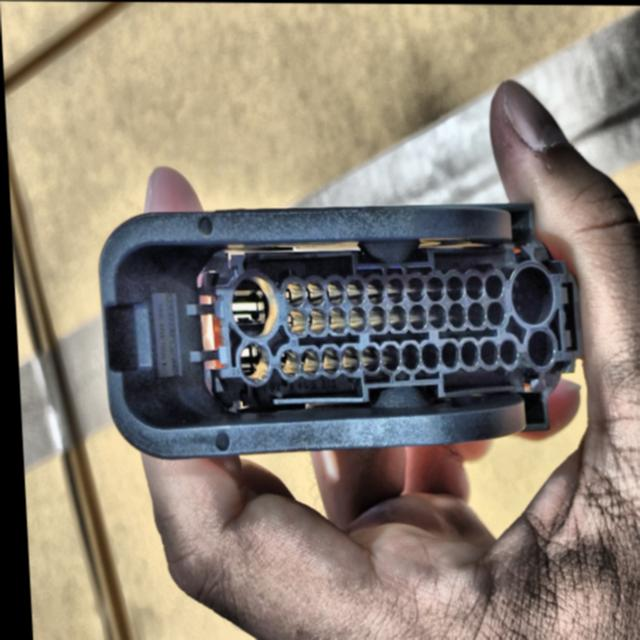P38: (97, 202, 579, 458)
